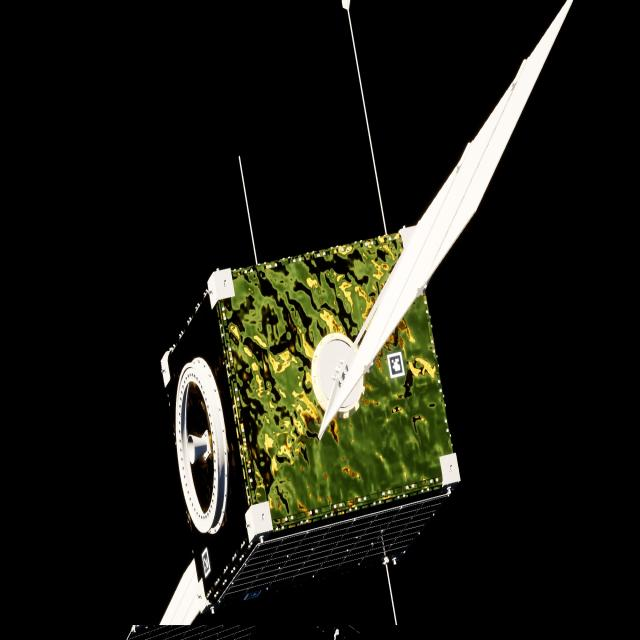medium_debris: (160, 0, 576, 628)
